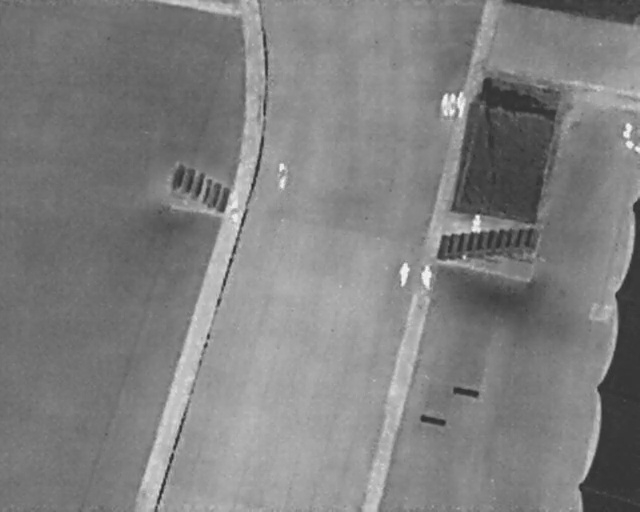Person: (420, 264, 433, 290), (398, 260, 409, 289), (278, 161, 288, 191), (228, 200, 241, 223), (457, 90, 467, 118), (470, 214, 482, 235), (448, 93, 457, 119), (442, 90, 449, 117)
